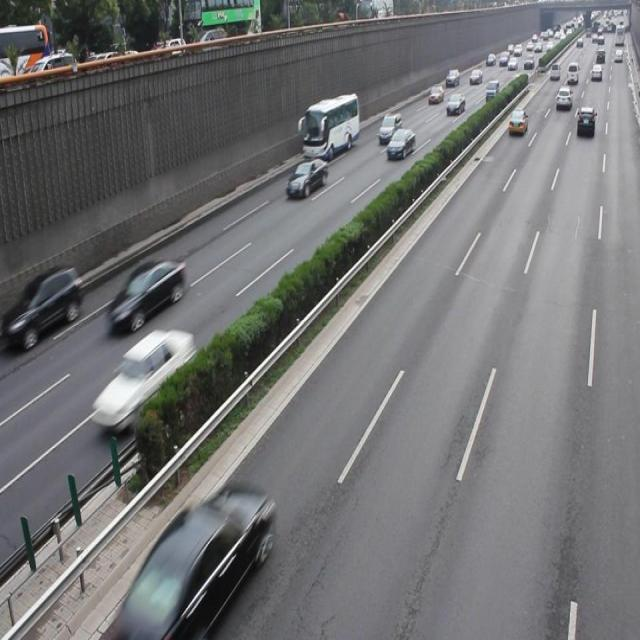car: (130, 483, 269, 640), (88, 331, 194, 430), (104, 255, 186, 330), (14, 264, 82, 348), (284, 158, 326, 198)
